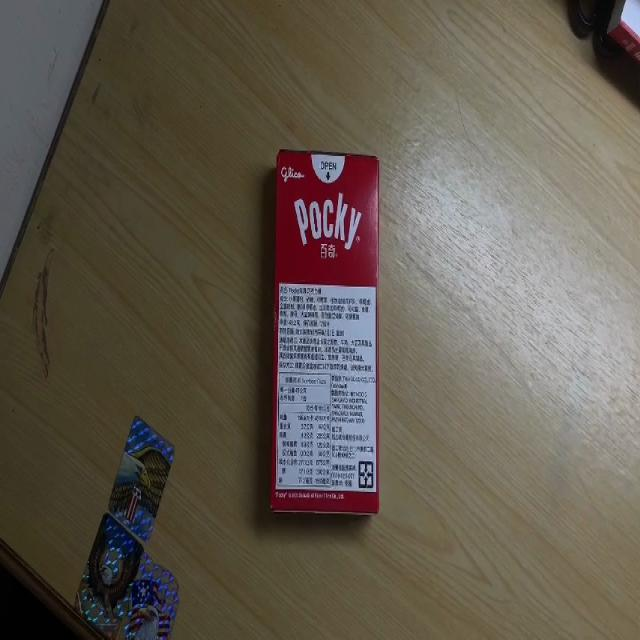Pocky: (274, 147, 380, 513)
